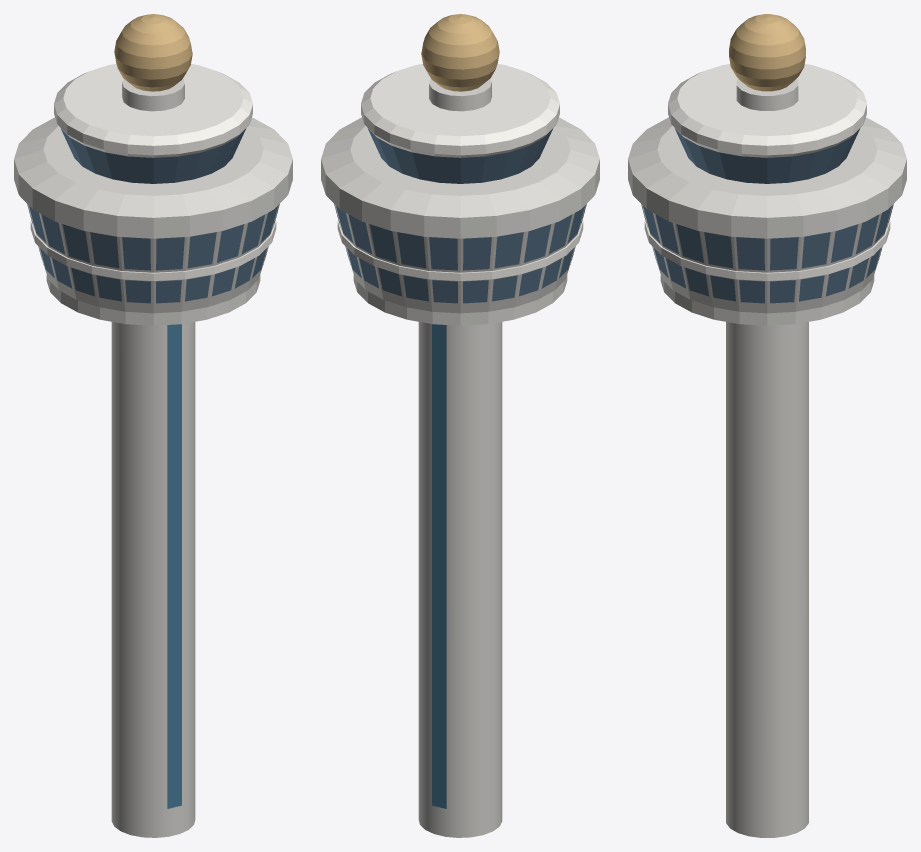
Rendered from singapore-changi-control-tower.glb.
3 renders of one model, left to right at view 1: azimuth 30°, elevation 25°; view 2: azimuth 150°, elevation 25°; view 3: azimuth 270°, elevation 25°, orthographic.
Visible parts, largest first — view 1: Changi Airport Control Tower; view 2: Changi Airport Control Tower; view 3: Changi Airport Control Tower.
Part boxes in pixels (bbox=[...]): Changi Airport Control Tower: bbox=[14, 14, 292, 837]; Changi Airport Control Tower: bbox=[321, 14, 599, 837]; Changi Airport Control Tower: bbox=[628, 14, 906, 837].
Size of the model in its own units: 26.6 by 84.5 by 26.6.
